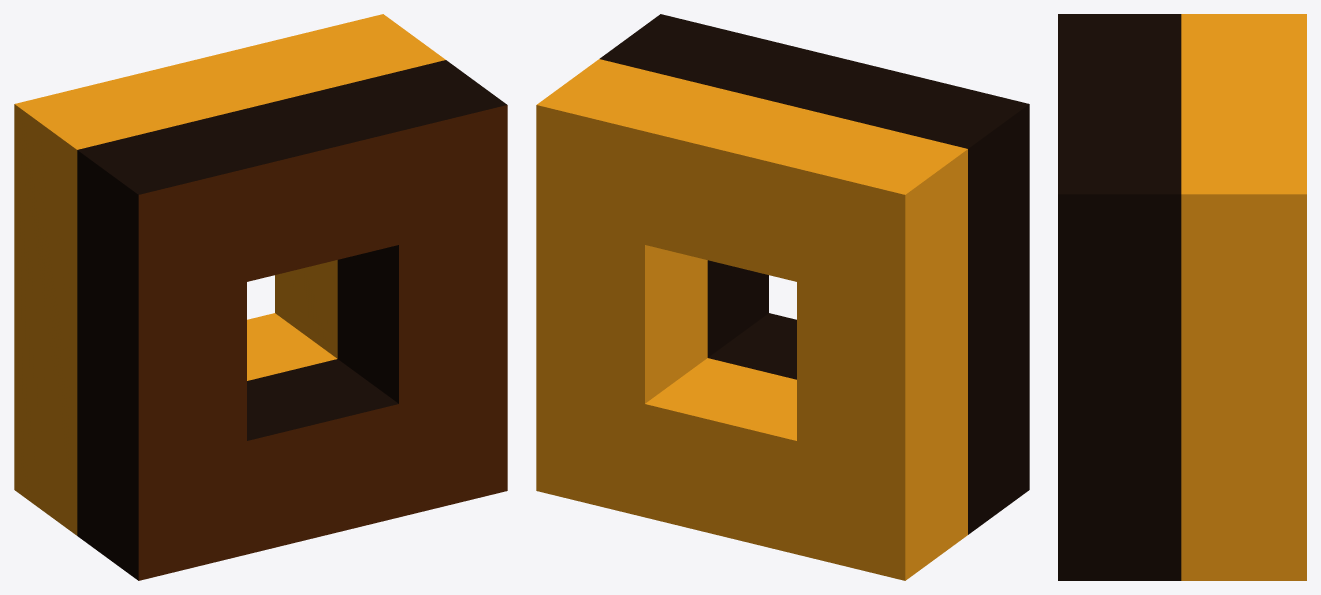
The model's file is Bruine_donut.FBX.
The picture shows the model from 3 angles, left to right: view 1: azimuth 30°, elevation 25°; view 2: azimuth 150°, elevation 25°; view 3: azimuth 270°, elevation 25°; orthographic projection.
Visible parts, largest first — view 1: Chocolat donut; view 2: Chocolat donut; view 3: Chocolat donut.
Boxes of the visible parts, left/top/right/bottom form: Chocolat donut: left=14, top=14, right=507, bottom=580; Chocolat donut: left=536, top=14, right=1029, bottom=580; Chocolat donut: left=1058, top=14, right=1306, bottom=580.
Bounding box in the file's own units: 60 × 60 × 35.
